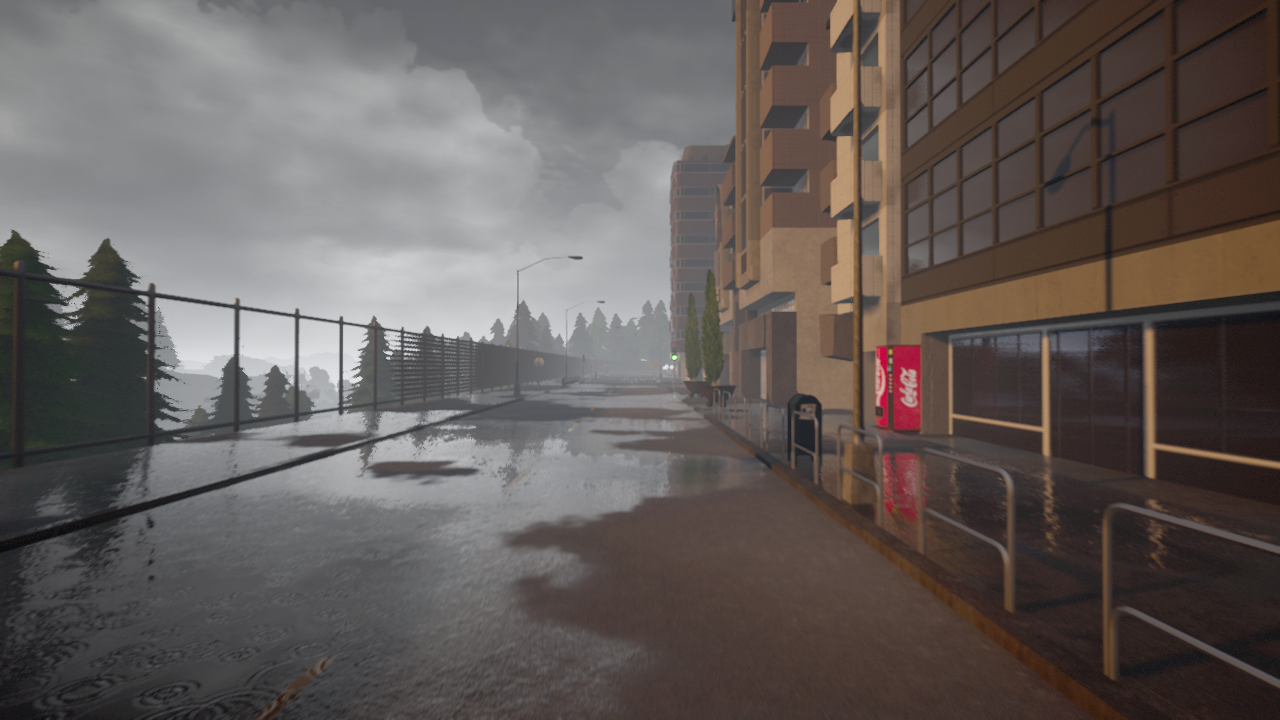green: (671, 348, 677, 361)
